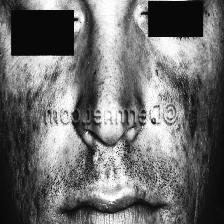Non-Cancerous Skin Condition: (0, 73, 68, 186), (148, 57, 216, 163)
